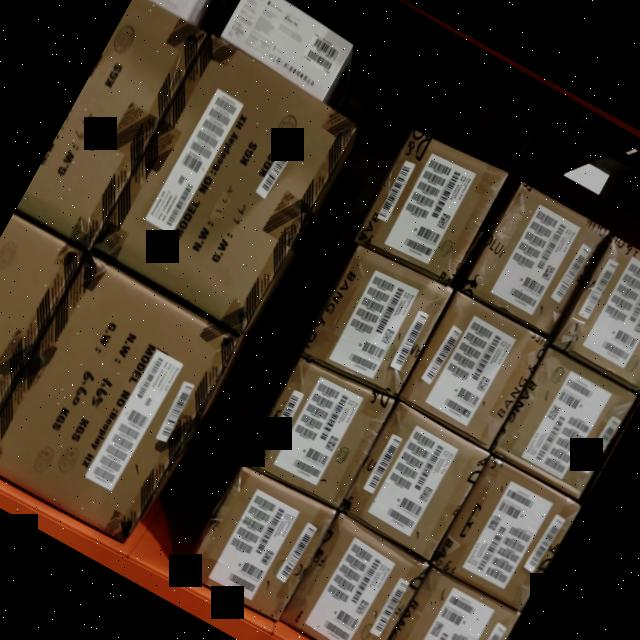box: (95, 43, 357, 327), (0, 257, 238, 542), (340, 404, 488, 560), (401, 293, 548, 447), (185, 468, 332, 620), (357, 133, 504, 284), (493, 348, 637, 498), (435, 460, 579, 610), (464, 186, 606, 336), (248, 359, 392, 506), (305, 249, 448, 397), (282, 517, 428, 640), (556, 238, 640, 392), (222, 0, 353, 94), (374, 567, 518, 640)
